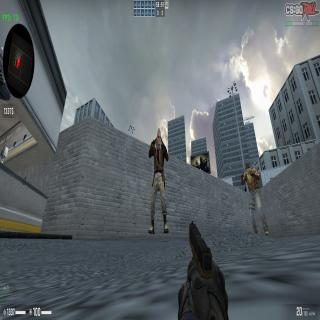T-Body: (148, 128, 169, 235), (241, 163, 269, 236)
T-Head: (157, 128, 161, 146), (246, 163, 251, 174)
